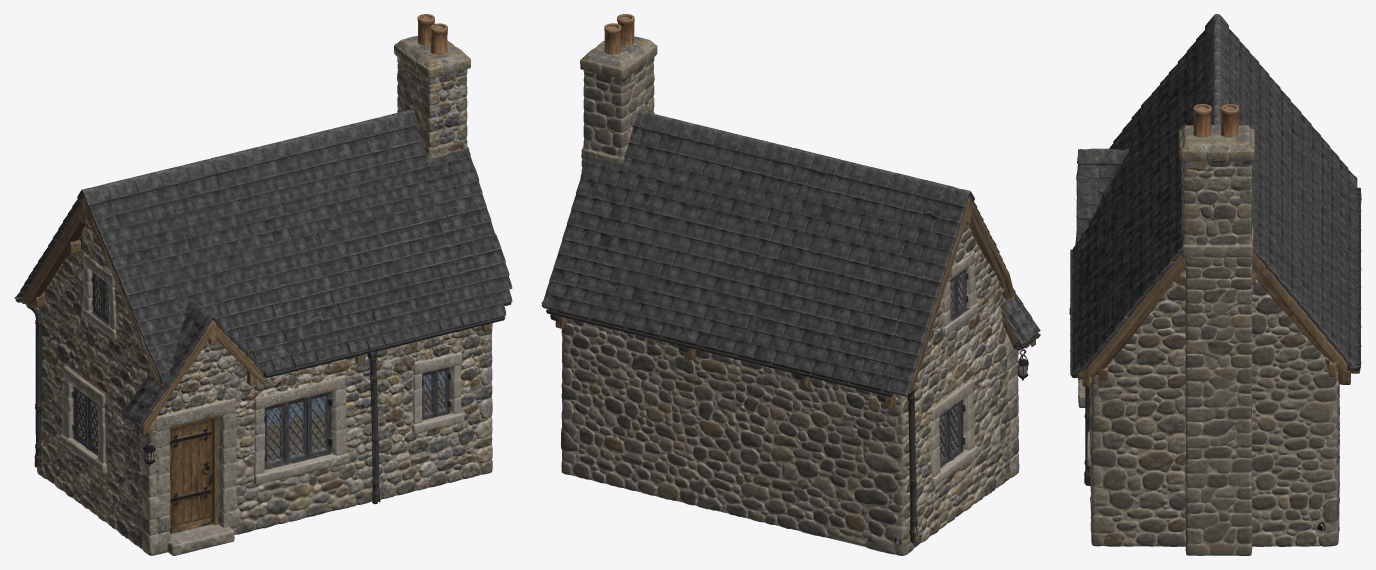
Rendered from kamienny_dom_lupek.glb.
The picture shows the model from 3 angles, left to right: view 1: azimuth 30°, elevation 25°; view 2: azimuth 150°, elevation 25°; view 3: azimuth 270°, elevation 25°; orthographic projection. The views are drawn at different scales.
Parts seen in each view (by area): view 1: Mesh_0; view 2: Mesh_0; view 3: Mesh_0.
Part boxes in pixels (x1=…): Mesh_0: x1=14, y1=14, x2=512, y2=555; Mesh_0: x1=541, y1=14, x2=1040, y2=555; Mesh_0: x1=1069, y1=14, x2=1361, y2=555.
Size of the model in its own units: 1.86 by 1.9 by 1.15.
Materials: 1 (1 with a texture image).
